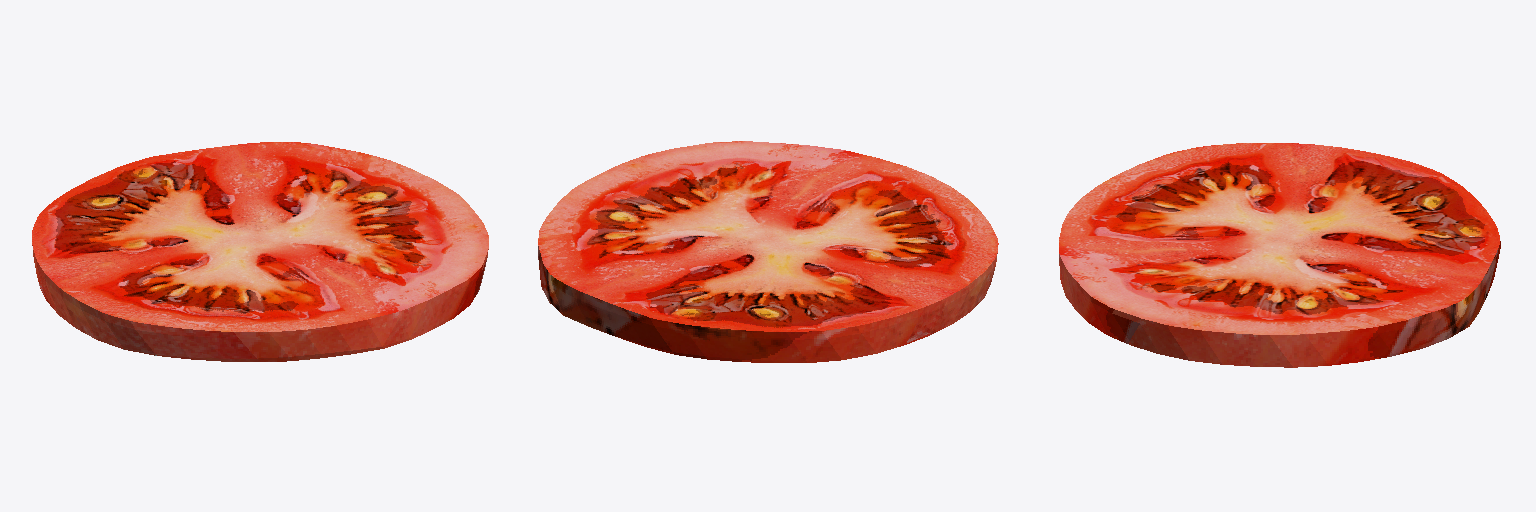
3 renders of one model, left to right at view 1: azimuth 30°, elevation 25°; view 2: azimuth 150°, elevation 25°; view 3: azimuth 270°, elevation 25°, orthographic.
Visible parts, largest first — view 1: Icosphere_Icosphere.001; view 2: Icosphere_Icosphere.001; view 3: Icosphere_Icosphere.001.
Boxes of the visible parts, x1,y1,x2,y2 form: Icosphere_Icosphere.001: [32, 142, 488, 361]; Icosphere_Icosphere.001: [538, 141, 998, 362]; Icosphere_Icosphere.001: [1059, 143, 1500, 367].
Size of the model in its own units: 2.07 by 0.1704 by 2.
1 materials, 1 textured.